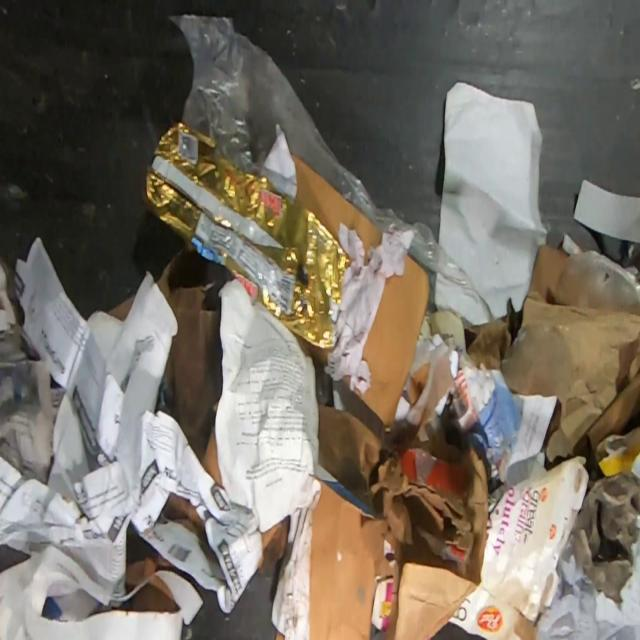cardboard: (308, 401, 488, 640), (450, 455, 590, 640), (155, 243, 222, 486), (354, 250, 431, 431), (291, 153, 381, 262), (461, 383, 521, 467), (396, 446, 469, 499), (527, 243, 574, 306), (598, 424, 640, 483), (257, 515, 290, 576), (106, 295, 134, 321)
soft_plastic: (167, 12, 496, 318), (141, 123, 352, 349), (500, 322, 574, 400), (562, 250, 640, 309)
